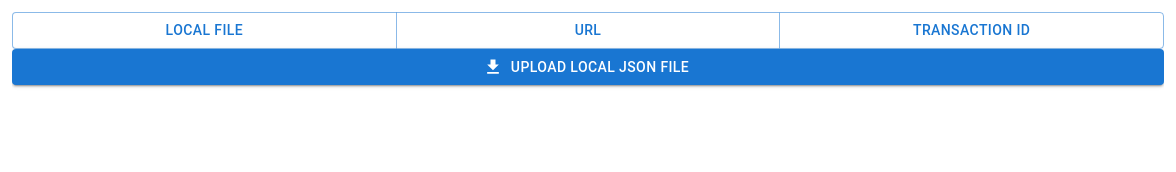
Test: PHAButtonGroup component tests › renders transactionId upload options on button click and update group button styles
Click the button "Transaction ID" at (972, 30), box [779,12,1164,48]
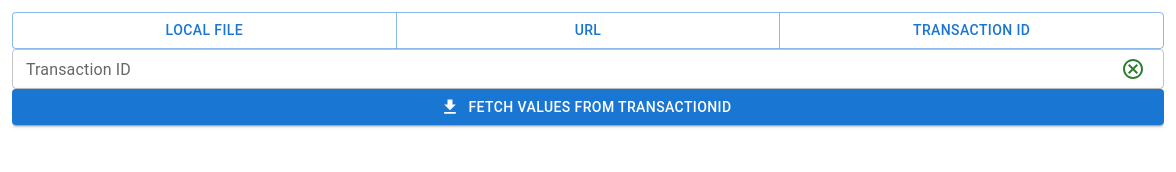
Result: the field labelled "Transaction ID" is shown at [12,48,1108,88]
Result: the button "Fetch Values from TransactionID" is shown at [12,88,1164,125]
